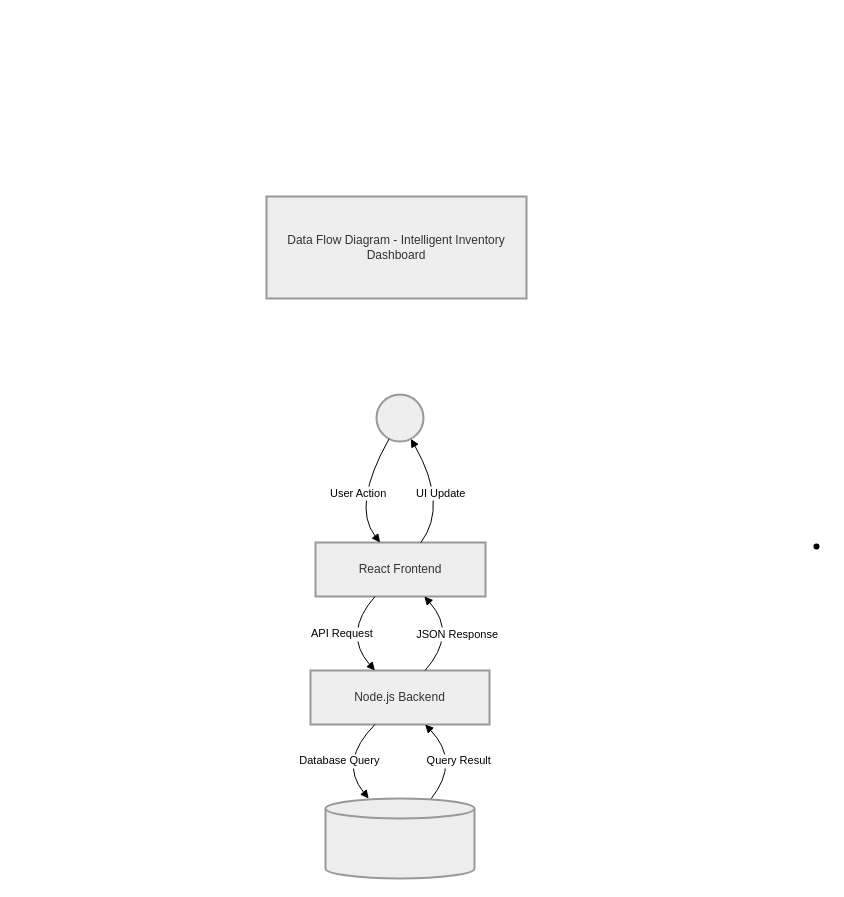
This 844x897 diagram has some shape labels left out. The centre of each missing label's shape, as x and y in pixels:
"MongoDB Database" goes at pixel 399 838.
"User" goes at pixel 399 417.
